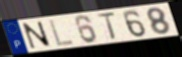6: (122, 9, 147, 39), (74, 14, 98, 45)
8: (146, 6, 173, 36)
L: (47, 18, 76, 48)
N: (21, 20, 53, 50)
T: (96, 11, 118, 41)
